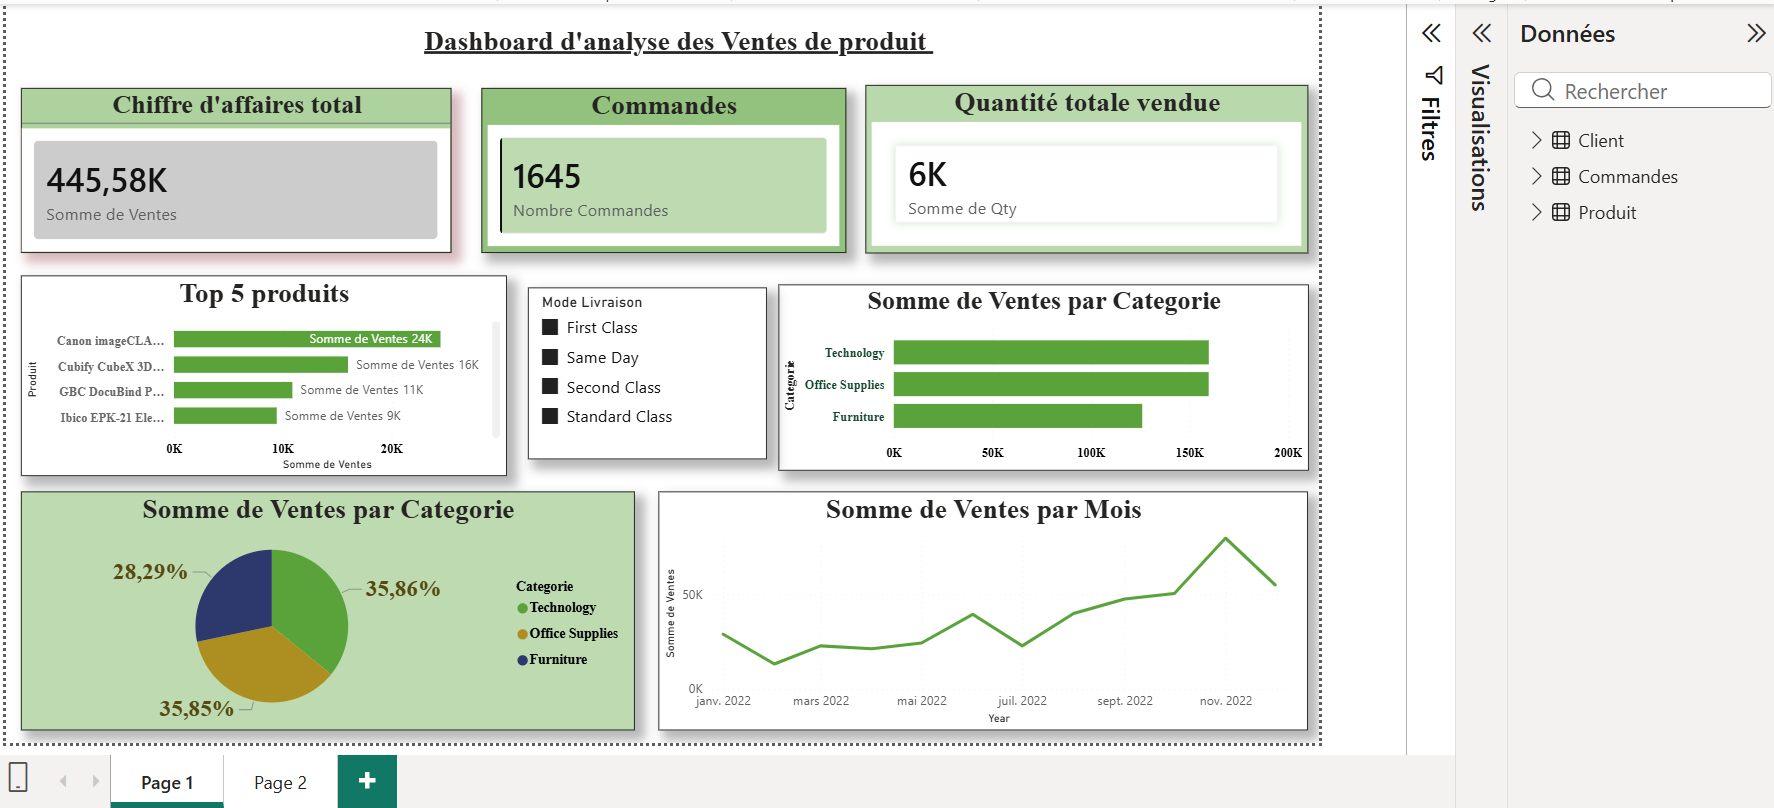

Layout of this report page (visuals, bound fields, positions):
{"tool":"powerbi","page":{"name":"Page 1","canvas":[1280,720],"ordinal":0},"visuals":[{"type":"cardVisual","title":"Chiffre d''affaires total","fields":{"Data":["Sum(Commandes.Ventes)"]},"box":[14.6,81.8,419.4,160.8],"z":0},{"type":"cardVisual","title":"Quantité totale vendue","fields":{"Data":["Sum(Commandes.Qty)"]},"box":[837.4,78.9,431.1,163.7],"z":1000},{"type":"cardVisual","title":"Commandes","fields":{"Data":["Commandes.Nombre Commandes"]},"box":[463.3,81.8,355.1,160.8],"z":2000},{"type":"barChart","title":"Top 5 produits","fields":{"Category":["Produit.Produit"],"Y":["Sum(Commandes.Ventes)"]},"box":[14,265.2,473,195.4],"z":3000},{"type":"pieChart","fields":{"Y":["Sum(Commandes.Ventes)"],"Category":["Produit.Categorie"]},"box":[14.6,475,597.7,232.4],"z":4000},{"type":"clusteredBarChart","title":"Somme de Ventes par Categorie","fields":{"Category":["Produit.Categorie"],"Y":["Sum(Commandes.Ventes)"]},"box":[752.2,273,516.4,181.5],"z":5000},{"type":"lineChart","title":"Somme de Ventes par Mois","fields":{"Category":["Commandes.Dt.Variation.Date Hierarchy.Year","Commandes.Dt.Variation.Date Hierarchy.Month"],"Y":["Sum(Commandes.Ventes)"]},"box":[635.7,475,632.8,232.4],"z":6000},{"type":"textbox","box":[200.1,14,910.4,46.5],"z":7000},{"type":"slicer","fields":{"Values":["Commandes.Mode Livraison"]},"box":[508.7,276.1,232.6,167.5],"z":8000}]}

Visuals, with their boxes on the page's 1280x720 design canvas (x1, y1, x2, y2). These are canvas units, not pixel positions in the 1774x808 screenshot, which may show the page scaled, cropped or inside an application window:
"Chiffre d''affaires total" cardVisual: 15,82,434,243
"Quantité totale vendue" cardVisual: 837,79,1268,243
"Commandes" cardVisual: 463,82,818,243
"Top 5 produits" barChart: 14,265,487,461
pieChart - Sum(Commandes.Ventes) x Produit.Categorie: 15,475,612,707
"Somme de Ventes par Categorie" clusteredBarChart: 752,273,1269,454
"Somme de Ventes par Mois" lineChart: 636,475,1268,707
textbox: 200,14,1110,60
slicer - Commandes.Mode Livraison: 509,276,741,444
